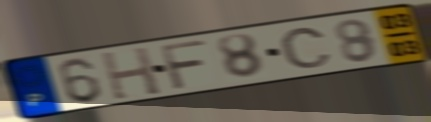6: (57, 55, 105, 106)
8: (217, 33, 264, 82), (333, 17, 379, 64)
C: (278, 26, 334, 70)
F: (157, 38, 209, 92)
H: (98, 45, 164, 102)
